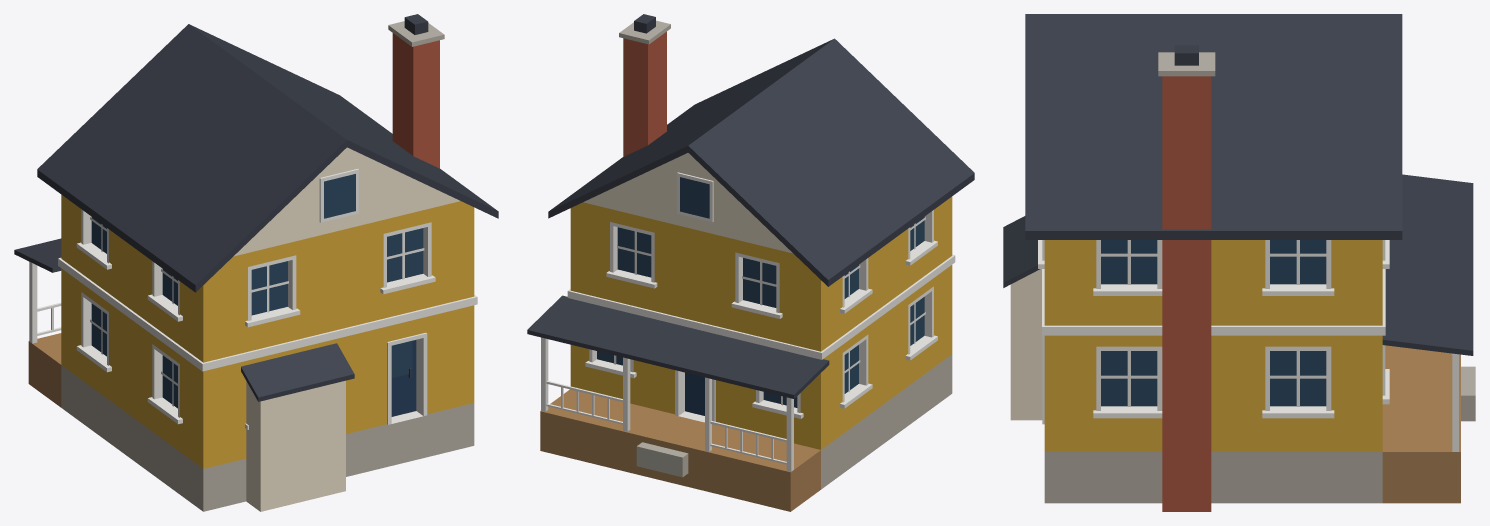
File: house_e.glb
The picture shows the model from 3 angles, left to right: view 1: azimuth 30°, elevation 25°; view 2: azimuth 150°, elevation 25°; view 3: azimuth 270°, elevation 25°; orthographic projection. The views are drawn at different scales.
Parts seen in each view (by area): view 1: Building, Building_Glass; view 2: Building, Building_Glass; view 3: Building, Building_Glass.
Boxes of the visible parts, bbox=[...] form: Building: bbox=[14, 14, 498, 511]; Building_Glass: bbox=[91, 174, 423, 408]; Building: bbox=[527, 14, 974, 511]; Building_Glass: bbox=[597, 177, 924, 407]; Building: bbox=[1003, 14, 1475, 511]; Building_Glass: bbox=[1101, 240, 1326, 406].
Size of the model in its own units: 8.55 by 10.25 by 9.65.
